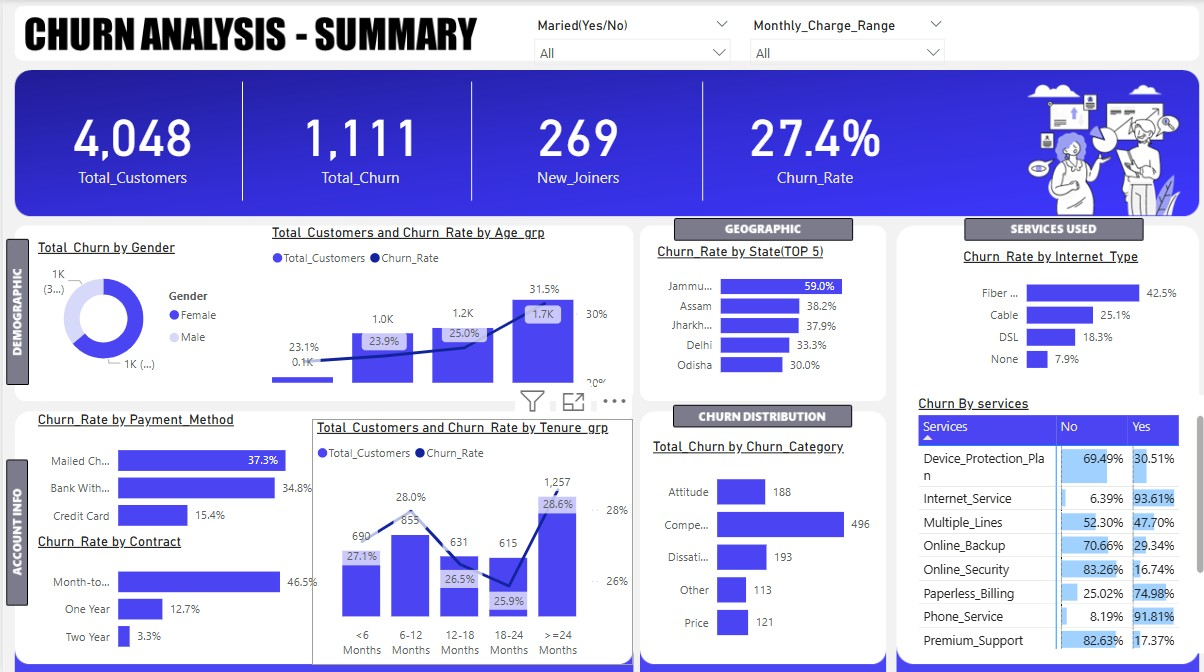

This screenshot's page, from the dashboard's own definition file:
{"tool":"powerbi","page":{"name":"Summary","canvas":[1280,720],"ordinal":0},"visuals":[{"type":"card","fields":{"Values":["tbl_measures.Total_Customers"]},"box":[31.6,89.5,210.5,122.8],"z":0},{"type":"card","fields":{"Values":["tbl_measures.Total_Churn"]},"box":[273.7,89.5,210.5,122.8],"z":1000},{"type":"card","fields":{"Values":["tbl_measures.New_Joiners"]},"box":[503.5,89.5,210.5,122.8],"z":2000},{"type":"card","fields":{"Values":["tbl_measures.Churn_Rate"]},"box":[756.1,89.5,210.5,122.8],"z":3000},{"type":"donutChart","fields":{"Y":["tbl_measures.Total_Churn"],"Category":["prod_churn_edited.Gender"]},"box":[32,254,210,152],"z":4000},{"type":"lineStackedColumnComboChart","fields":{"Category":["mapping_age_grp.Age_grp"],"Y":["tbl_measures.Total_Customers"],"Y2":["tbl_measures.Churn_Rate"]},"box":[280,238,366,182],"z":5000},{"type":"clusteredBarChart","fields":{"Category":["prod_churn_edited.Payment_Method"],"Y":["tbl_measures.Churn_Rate"]},"box":[32.3,437.1,308.1,138.7],"z":6000},{"type":"clusteredBarChart","fields":{"Category":["prod_churn_edited.Contract"],"Y":["tbl_measures.Churn_Rate"]},"box":[32,566,308,138],"z":7000},{"type":"lineStackedColumnComboChart","fields":{"Category":["mapping_tenure_grp.Tenure_grp"],"Y":["tbl_measures.Total_Customers"],"Y2":["tbl_measures.Churn_Rate"]},"box":[328,446,340,260],"z":8000},{"type":"clusteredBarChart","title":"Churn_Rate by State(TOP 5)","fields":{"Category":["prod_churn_edited.State"],"Y":["tbl_measures.Churn_Rate"]},"box":[688,260,238,150],"z":9000},{"type":"clusteredBarChart","fields":{"Category":["prod_churn_edited.Churn_Category"],"Y":["tbl_measures.Total_Churn"]},"box":[684,466,240,228],"z":10000},{"type":"clusteredBarChart","fields":{"Category":["prod_churn_edited.Internet_Type"],"Y":["tbl_measures.Churn_Rate"]},"box":[1014,264,238,142],"z":11000},{"type":"pivotTable","title":"Churn By services","fields":{"Rows":["prod_services.Services"],"Columns":["prod_services.Status"],"Values":["Sum(prod_services.Churn_Status)"]},"box":[966,420,314,274],"z":12000},{"type":"slicer","fields":{"Values":["prod_churn_edited.Monthly_Charge.1"]},"box":[782,14,226,56],"z":13000},{"type":"slicer","fields":{"Values":["prod_churn_edited.Married"]},"box":[554,14,228,62],"z":14000}]}

Visuals, with their boxes in screenshot pixels (x1, y1, x2, y2), scaled from the page's 1280x720 canvas onto the 1204x672 screenshot:
card - tbl_measures.Total_Customers: 30:84:228:198
card - tbl_measures.Total_Churn: 257:84:455:198
card - tbl_measures.New_Joiners: 474:84:672:198
card - tbl_measures.Churn_Rate: 711:84:909:198
donutChart - tbl_measures.Total_Churn x prod_churn_edited.Gender: 30:237:228:379
lineStackedColumnComboChart - mapping_age_grp.Age_grp x tbl_measures.Total_Customers: 263:222:608:392
clusteredBarChart - prod_churn_edited.Payment_Method x tbl_measures.Churn_Rate: 30:408:320:537
clusteredBarChart - prod_churn_edited.Contract x tbl_measures.Churn_Rate: 30:528:320:657
lineStackedColumnComboChart - mapping_tenure_grp.Tenure_grp x tbl_measures.Total_Customers: 309:416:628:659
"Churn_Rate by State(TOP 5)" clusteredBarChart: 647:243:871:383
clusteredBarChart - prod_churn_edited.Churn_Category x tbl_measures.Total_Churn: 643:435:869:648
clusteredBarChart - prod_churn_edited.Internet_Type x tbl_measures.Churn_Rate: 954:246:1178:379
"Churn By services" pivotTable: 909:392:1203:648
slicer - prod_churn_edited.Monthly_Charge.1: 736:13:948:65
slicer - prod_churn_edited.Married: 521:13:736:71
